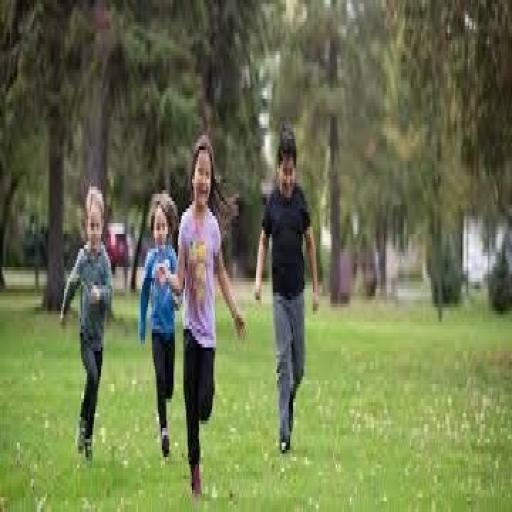running: (156, 132, 249, 501), (252, 120, 323, 460), (57, 179, 117, 468), (135, 186, 184, 464)
